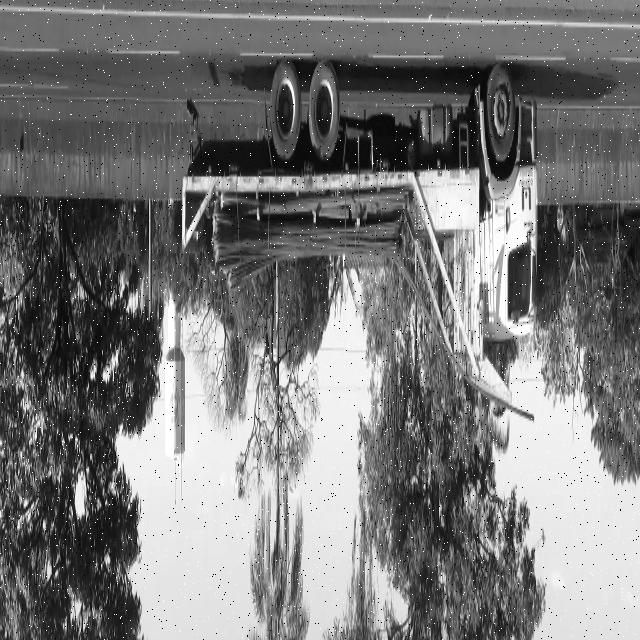-axle: (485, 59, 518, 164), (308, 60, 341, 160), (272, 59, 300, 161)
